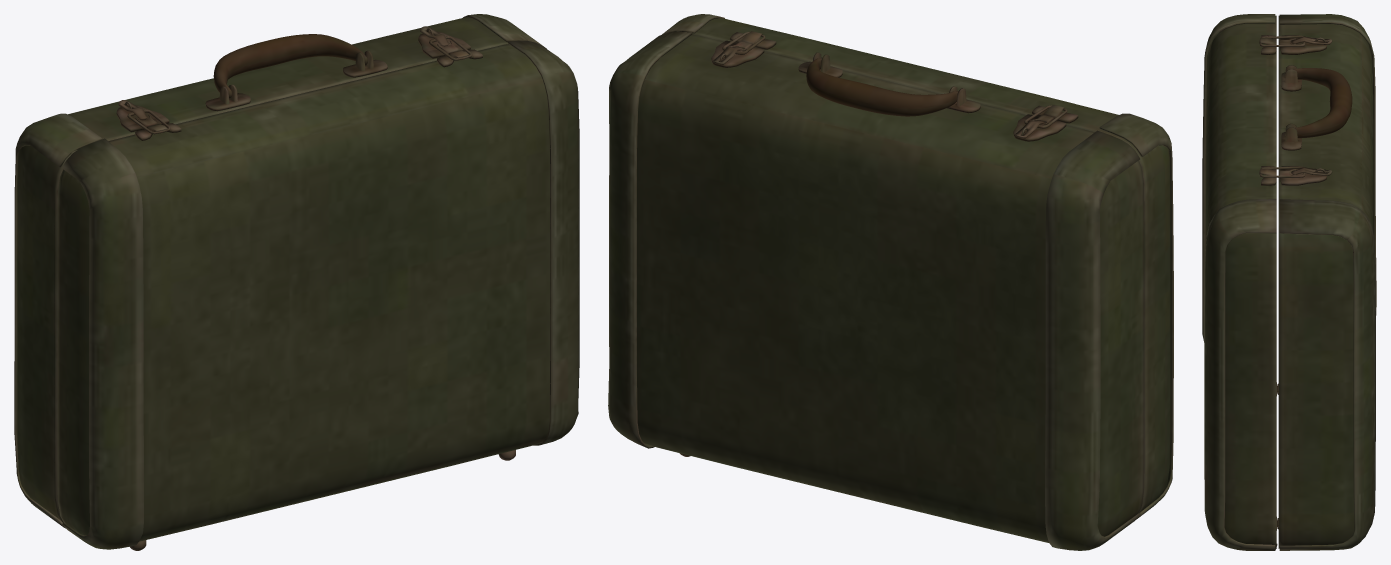
File: suitcase.glb
3 views of the same model, side by side, from view 1: azimuth 30°, elevation 25°; view 2: azimuth 150°, elevation 25°; view 3: azimuth 270°, elevation 25° (orthographic). The views are drawn at different scales.
Parts seen in each view (by area): view 1: suitcase; view 2: suitcase; view 3: suitcase.
Part boxes in pixels (box(x1,y1,x2,y2)): suitcase: box(14, 14, 579, 550); suitcase: box(608, 14, 1173, 550); suitcase: box(1202, 14, 1376, 550).
Bounding box in the file's own units: 0.6938 × 0.5679 × 0.2392.
Materials: 1 (1 with a texture image).
